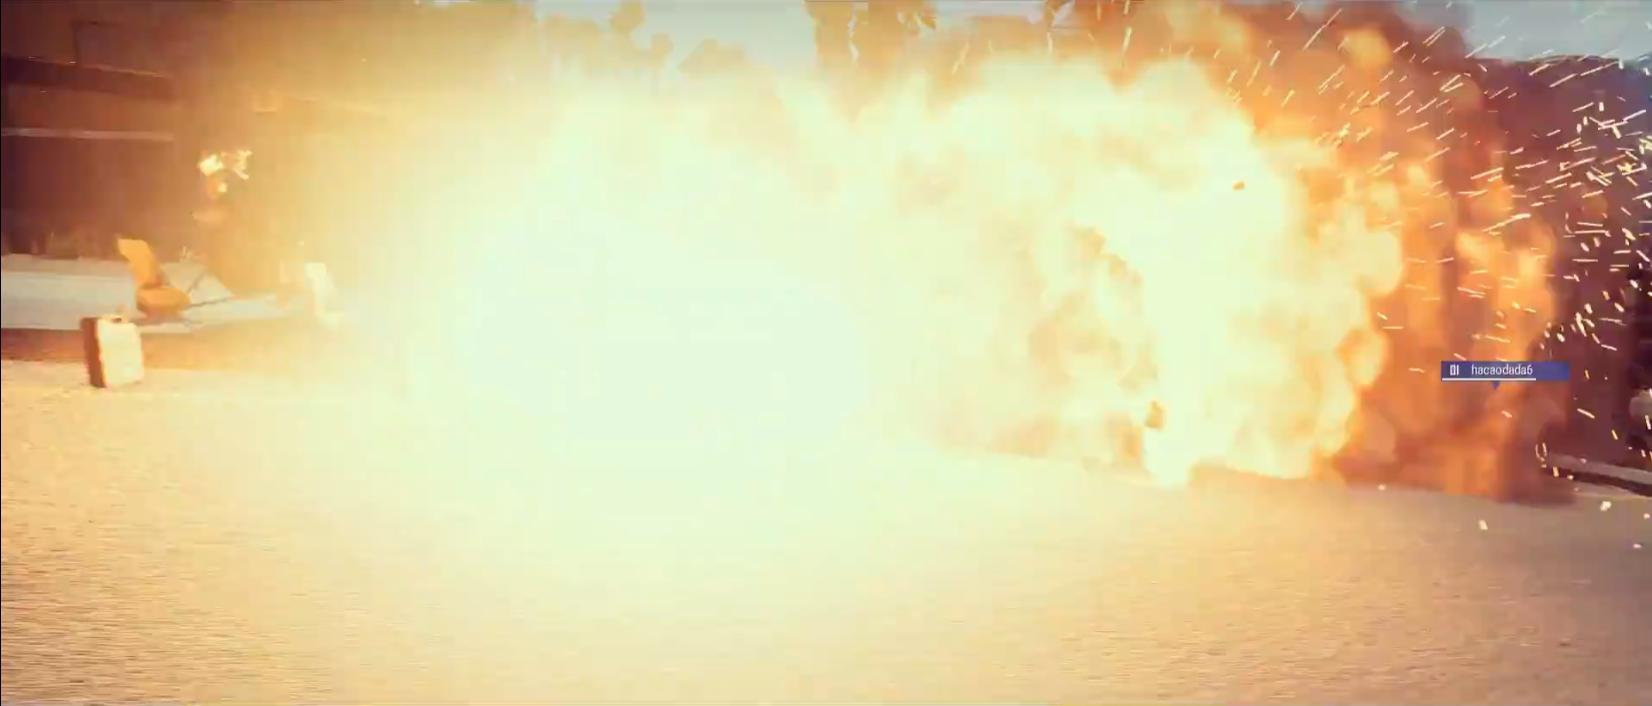fire: (147, 0, 1575, 651)
